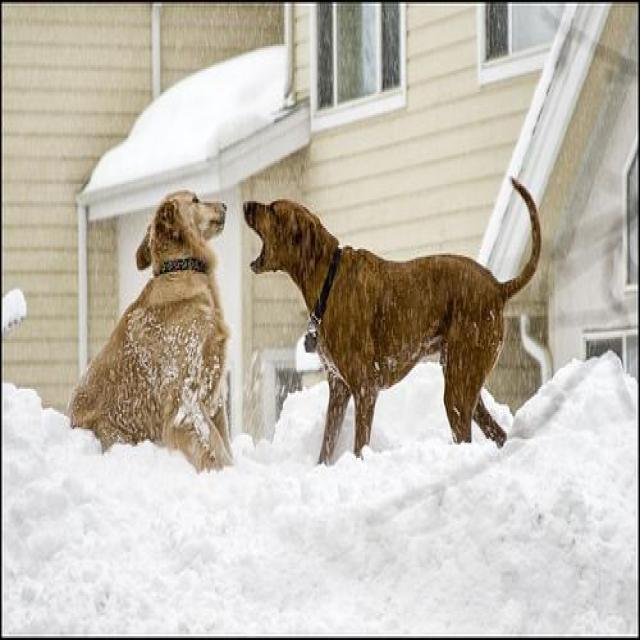rhodesian_ridgeback: (240, 175, 542, 470)
